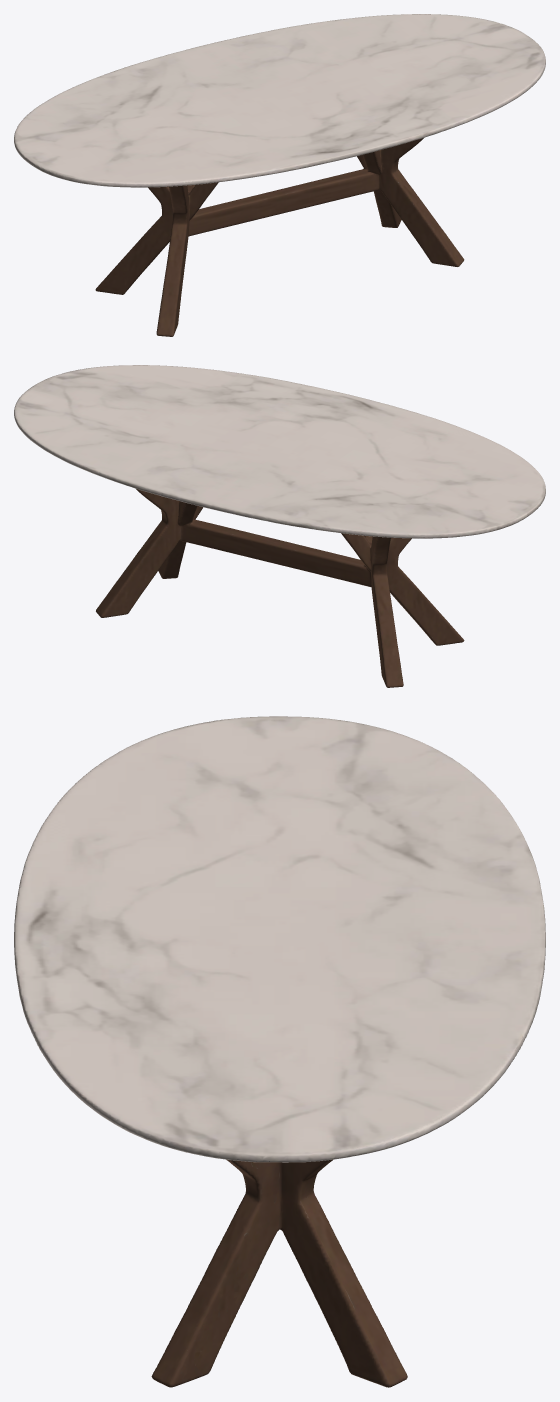
The model's file is wKeQ5UTnQDdlTiDSQCGPF.glb.
3 renders of one model, top to bottom at view 1: azimuth 30°, elevation 25°; view 2: azimuth 150°, elevation 25°; view 3: azimuth 270°, elevation 25°, orthographic. The views are drawn at different scales.
Parts seen in each view (by area): view 1: world; view 2: world; view 3: world.
Part boxes in pixels (x1,y1,x2,y2): world: [14, 14, 545, 336]; world: [14, 365, 545, 687]; world: [14, 716, 545, 1387].
Bounding box in the file's own units: 1 × 0.3403 × 0.5133.
Materials: 1 (1 with a texture image).
